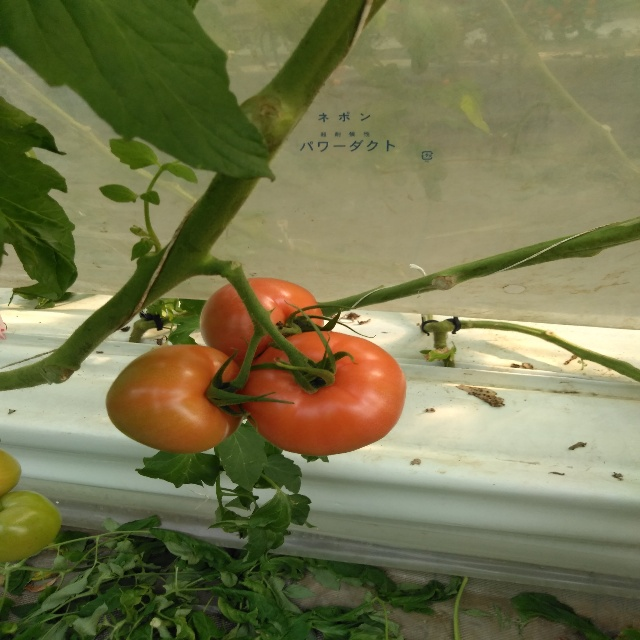b_fully_ripened: (241, 331, 406, 456), (200, 277, 323, 372)
b_green: (0, 490, 62, 562), (0, 448, 22, 497)
b_half_ripened: (105, 345, 246, 454)
